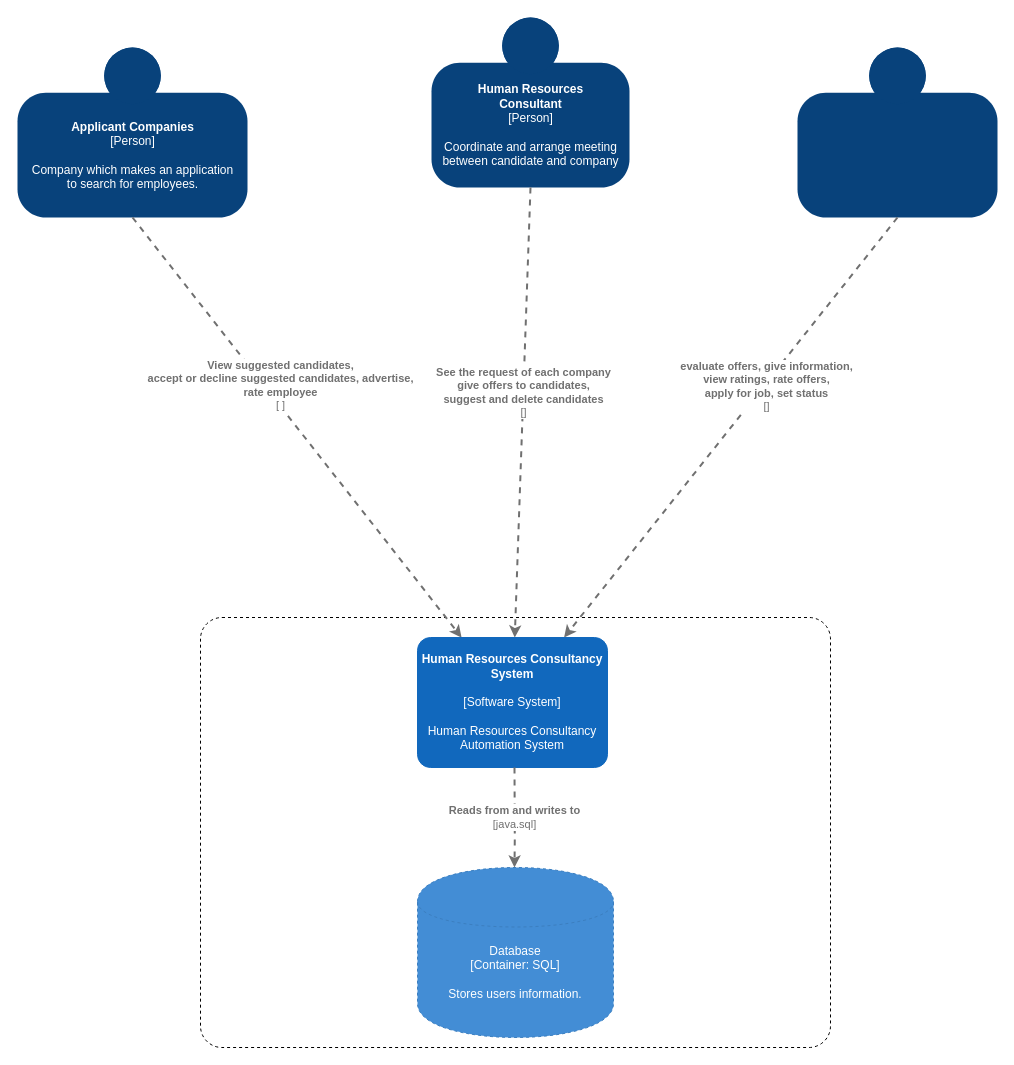
The diagram is 1014 pixels wide and 1065 high, and some of its shapes have lost their labels. The box of each missing label's shape, as (x1, y1, x2, y2) in pixels:
Candidate [Person] The person who registers to the system to find a job.: (797, 47, 997, 217)
Human Resources Consultancy System [operationSystem]: (200, 616, 830, 1048)
